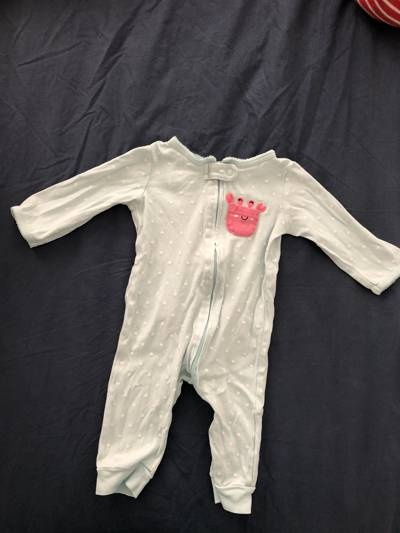Body: (14, 118, 399, 521)
